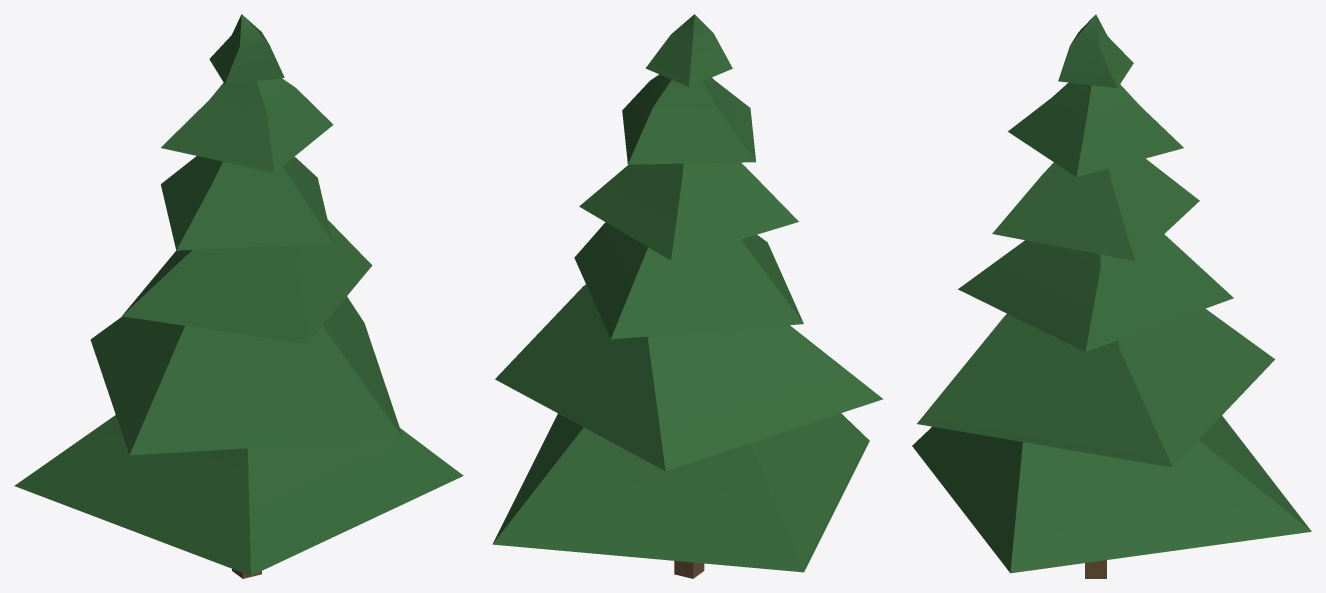
The model's file is fannys_stuff.fbx.
3 views of the same model, side by side, from view 1: azimuth 30°, elevation 25°; view 2: azimuth 150°, elevation 25°; view 3: azimuth 270°, elevation 25° (orthographic).
Parts seen in each view (by area): view 1: pPyramid6, pPyramid5, pPyramid4, pPyramid3, pPyramid2, pPyramid1; view 2: pPyramid6, pPyramid5, pPyramid4, pPyramid3, pPyramid2, pPyramid1; view 3: pPyramid6, pPyramid5, pPyramid4, pPyramid3, pPyramid2, pPyramid1.
Part boxes in pixels (x1=…): pPyramid6: x1=14, y1=415, x2=463, y2=575; pPyramid5: x1=90, y1=296, x2=403, y2=455; pPyramid4: x1=122, y1=220, x2=372, y2=343; pPyramid3: x1=161, y1=156, x2=333, y2=250; pPyramid2: x1=161, y1=78, x2=333, y2=172; pPyramid1: x1=209, y1=14, x2=284, y2=84; pPyramid6: x1=492, y1=413, x2=869, y2=572; pPyramid5: x1=495, y1=284, x2=883, y2=471; pPyramid4: x1=574, y1=222, x2=803, y2=339; pPyramid3: x1=579, y1=162, x2=798, y2=260; pPyramid2: x1=622, y1=74, x2=755, y2=164; pPyramid1: x1=645, y1=14, x2=732, y2=86; pPyramid6: x1=912, y1=415, x2=1311, y2=573; pPyramid5: x1=917, y1=308, x2=1274, y2=467; pPyramid4: x1=958, y1=234, x2=1233, y2=351; pPyramid3: x1=992, y1=158, x2=1199, y2=261; pPyramid2: x1=1008, y1=82, x2=1183, y2=176; pPyramid1: x1=1058, y1=14, x2=1133, y2=88.
Bounding box in the file's own units: 4.11 × 6.32 × 4.11.
